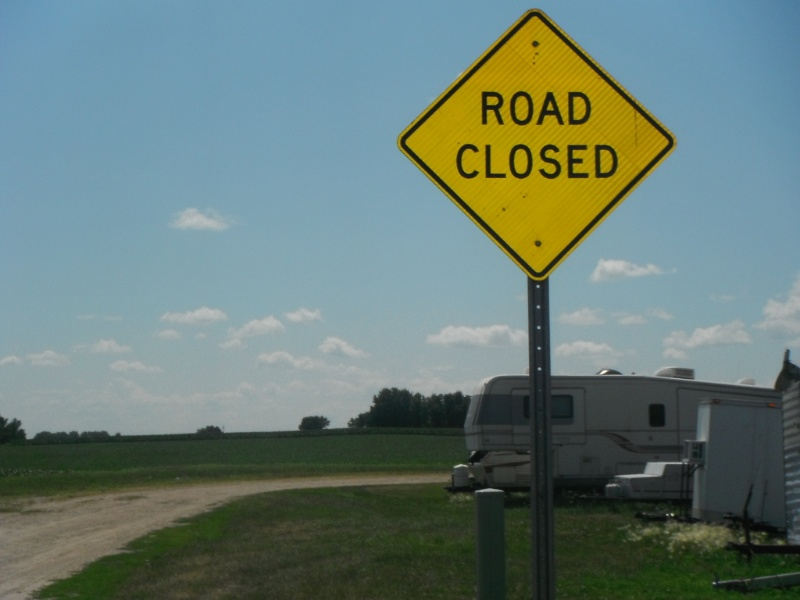road_closed: (389, 1, 684, 282)
